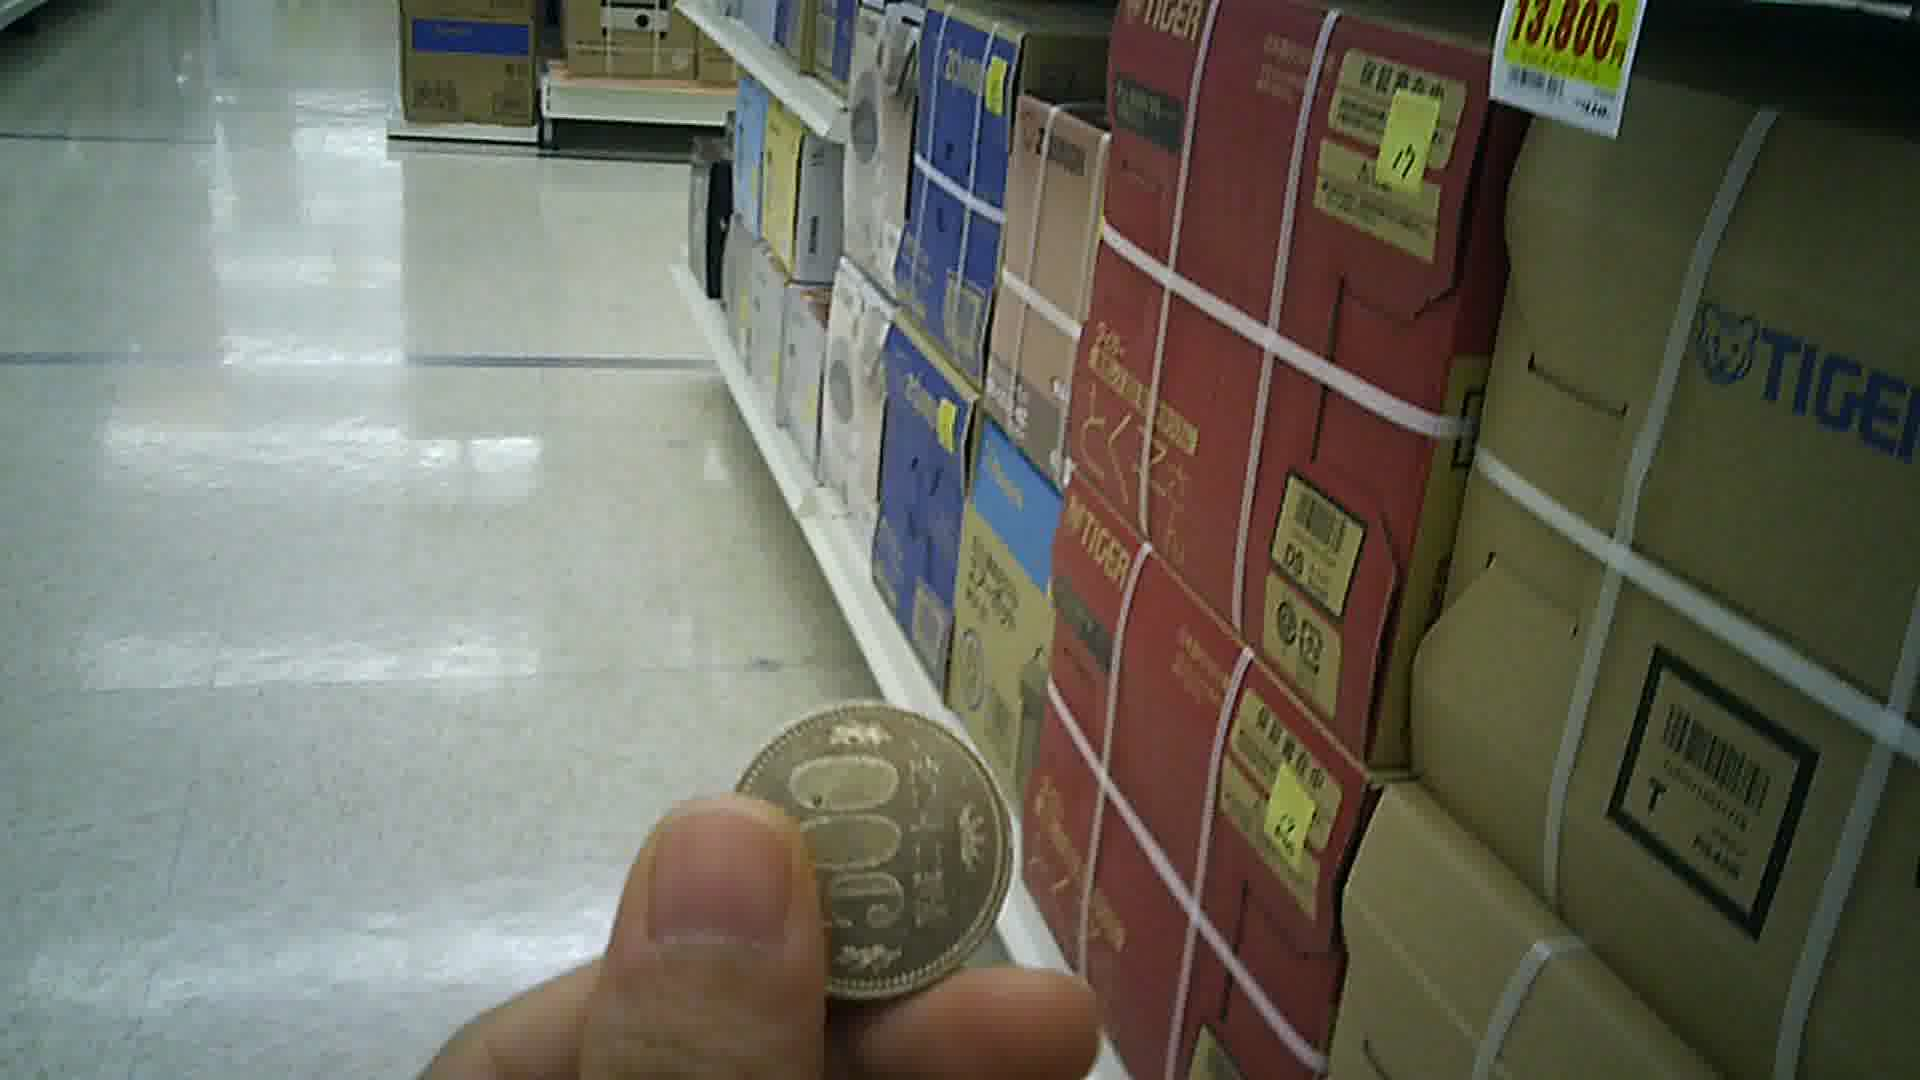500 Yen: (723, 694, 1023, 992)
